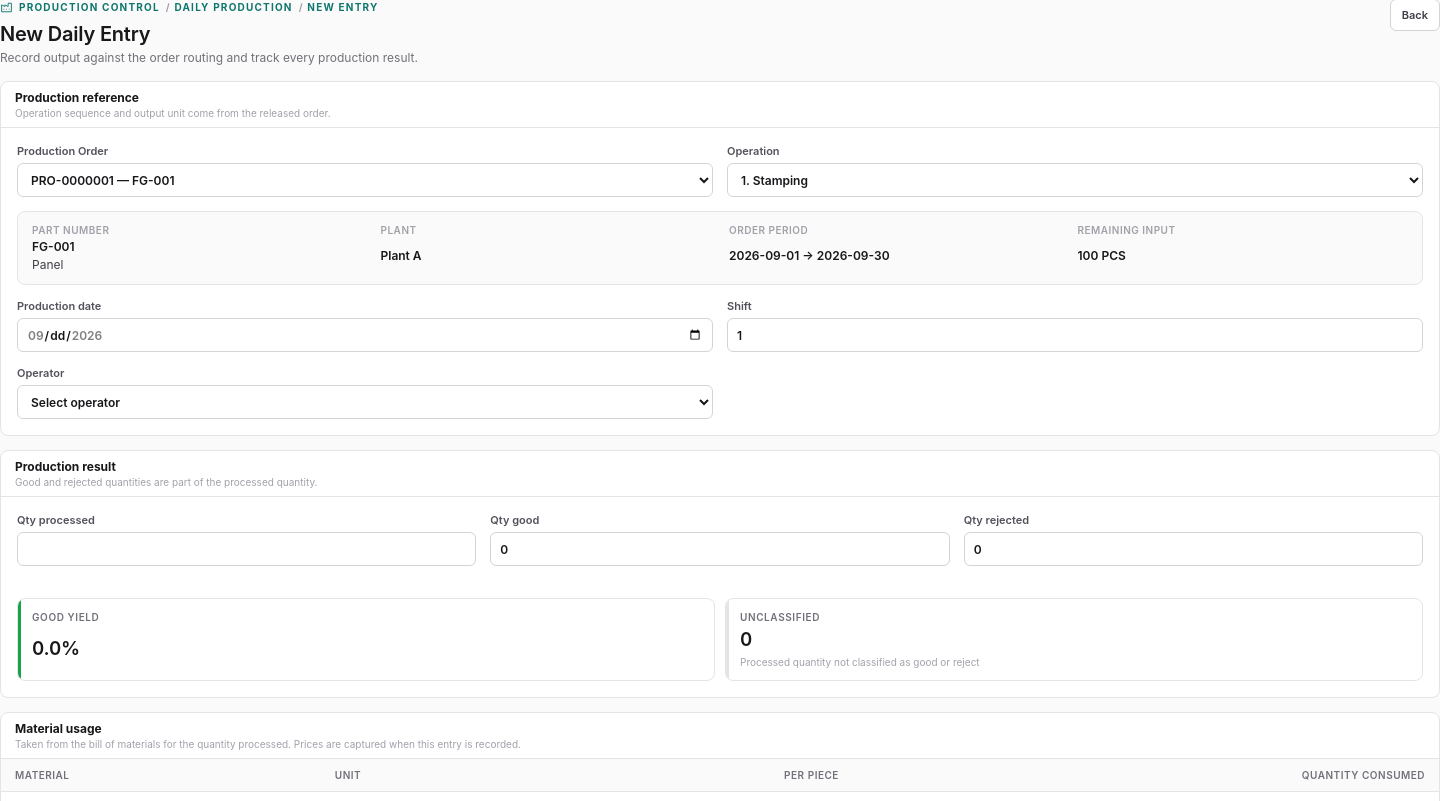
prevents next operation entry without upstream output
Step 1. Select "2. Welding" in the dropdown labelled "Operation" → (1075, 180), box [727,163,1423,197]
(page scrolled)
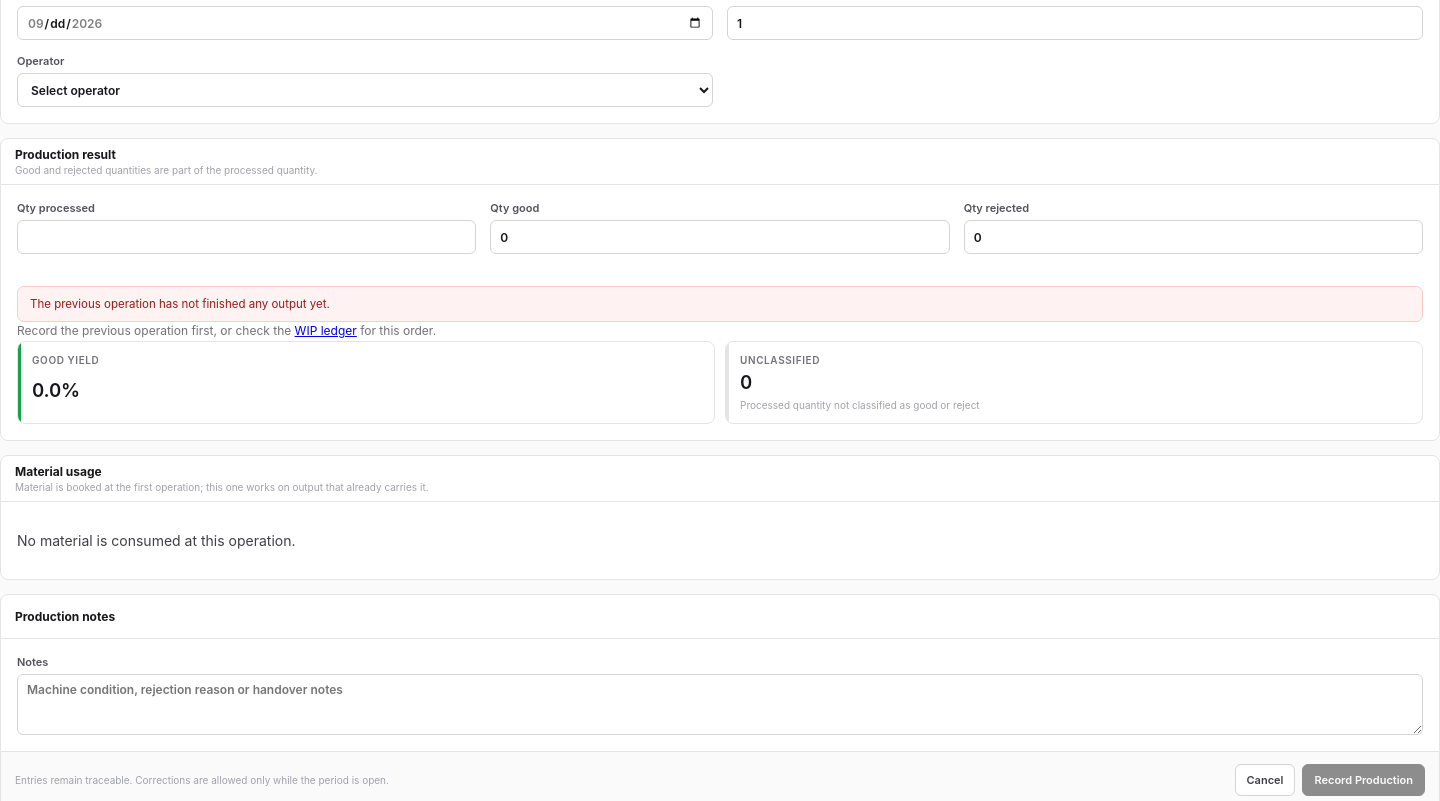
Expected: the button "Record Production" is disabled, [1302,764,1425,796]
Expected: the text "The previous operation has not finished any output yet." is shown, [17,286,1423,322]
